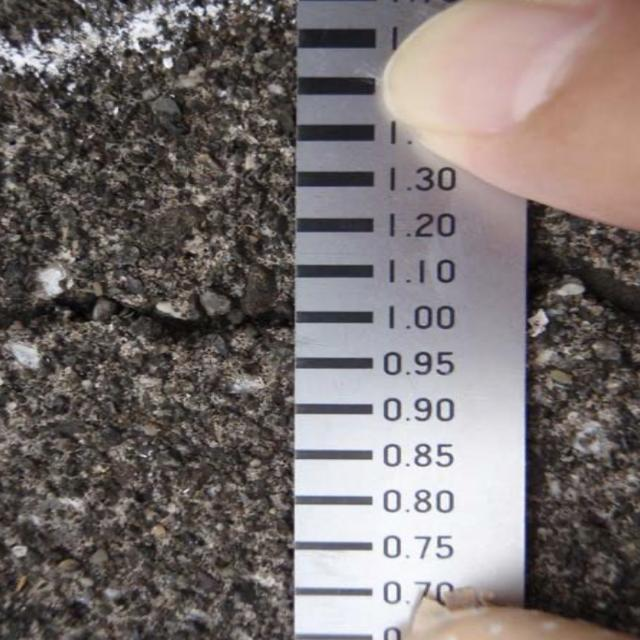crack: (13, 268, 293, 366), (515, 228, 640, 334)
